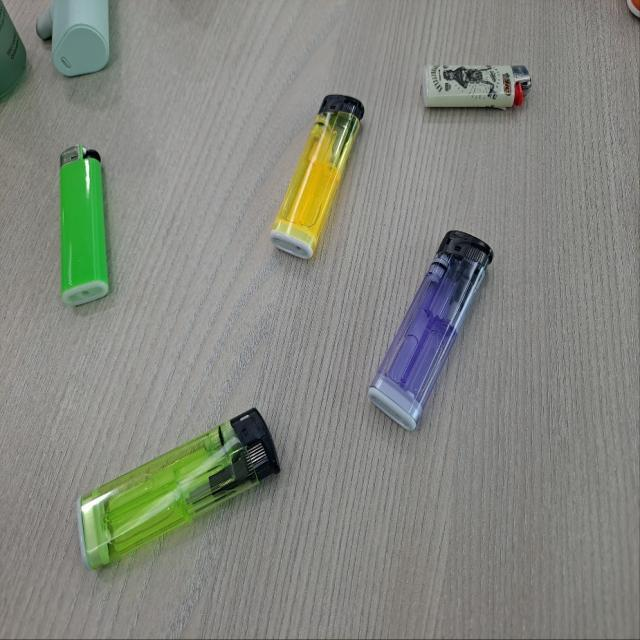lighter: (75, 397, 282, 575), (364, 219, 502, 433), (270, 90, 370, 266), (56, 142, 115, 312), (419, 54, 537, 116)
portable_charger: (31, 0, 120, 80)
